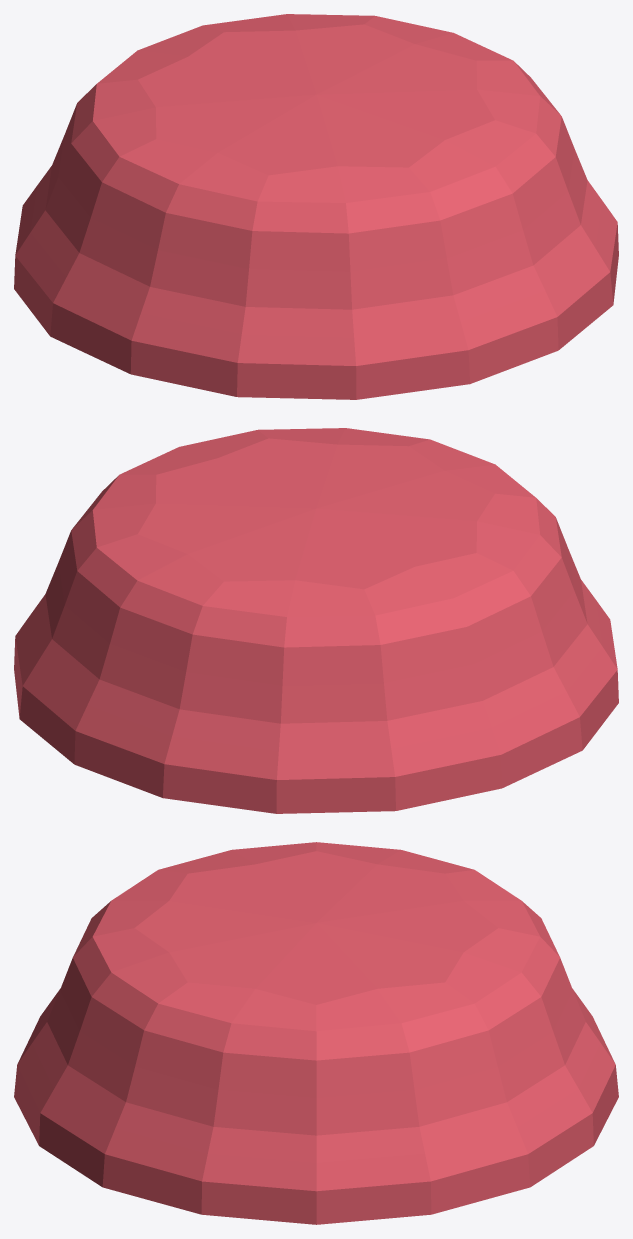
The model's file is button-circle.fbx.
The picture shows the model from 3 angles, top to bottom: view 1: azimuth 30°, elevation 25°; view 2: azimuth 150°, elevation 25°; view 3: azimuth 270°, elevation 25°; orthographic projection.
Visible parts, largest first — view 1: button-circle; view 2: button-circle; view 3: button-circle.
Boxes of the visible parts, <box> form: button-circle: <box>14,14,618,399</box>; button-circle: <box>14,428,618,813</box>; button-circle: <box>14,842,618,1224</box>.
Size of the model in its own units: 1.29 by 0.4105 by 1.29.
